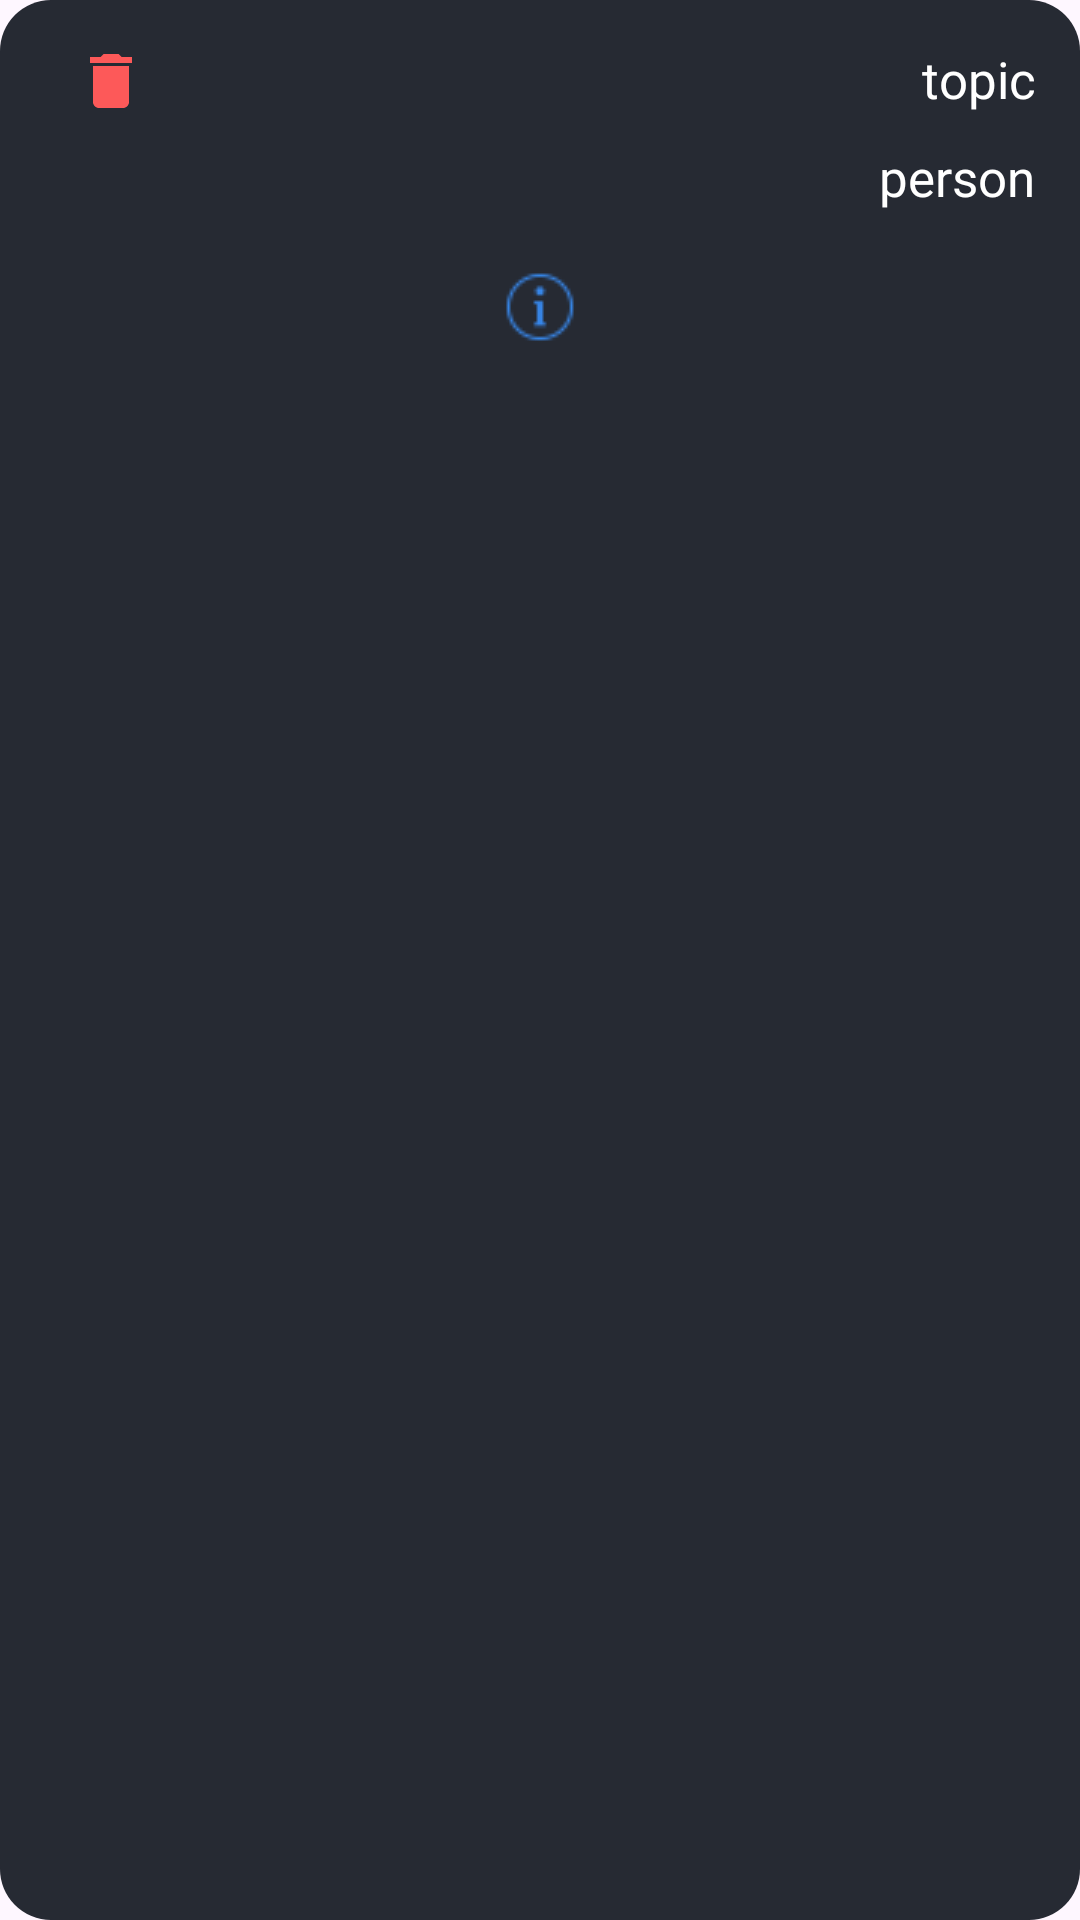

Where to tap for icons on this 1080x1920 app screen, as point (x, y):
delete: point (111, 81)
info: point (540, 307)
